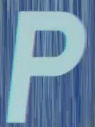Parking: (6, 3, 86, 117)
